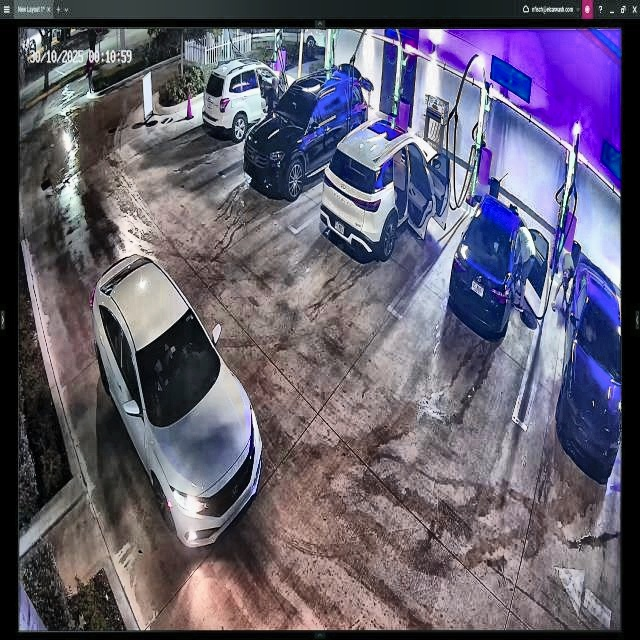Car: (90, 253, 261, 548), (322, 118, 449, 258), (245, 69, 368, 193), (449, 192, 547, 340)
